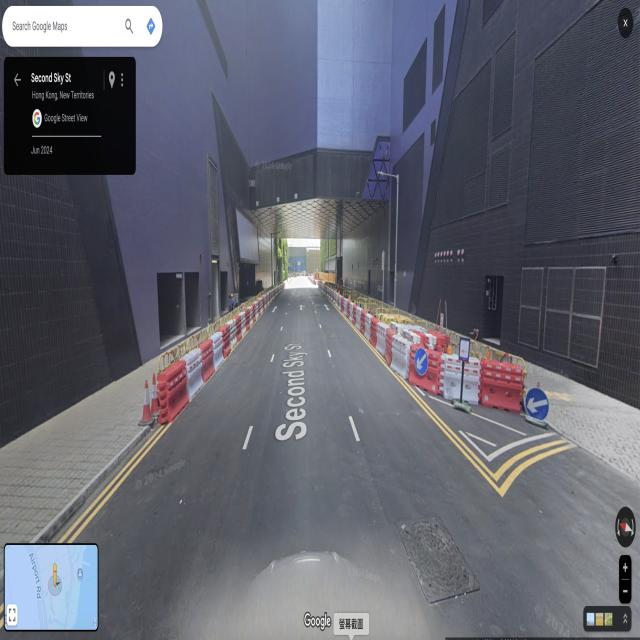Order-Sign: (528, 389, 546, 419), (415, 348, 426, 372)
